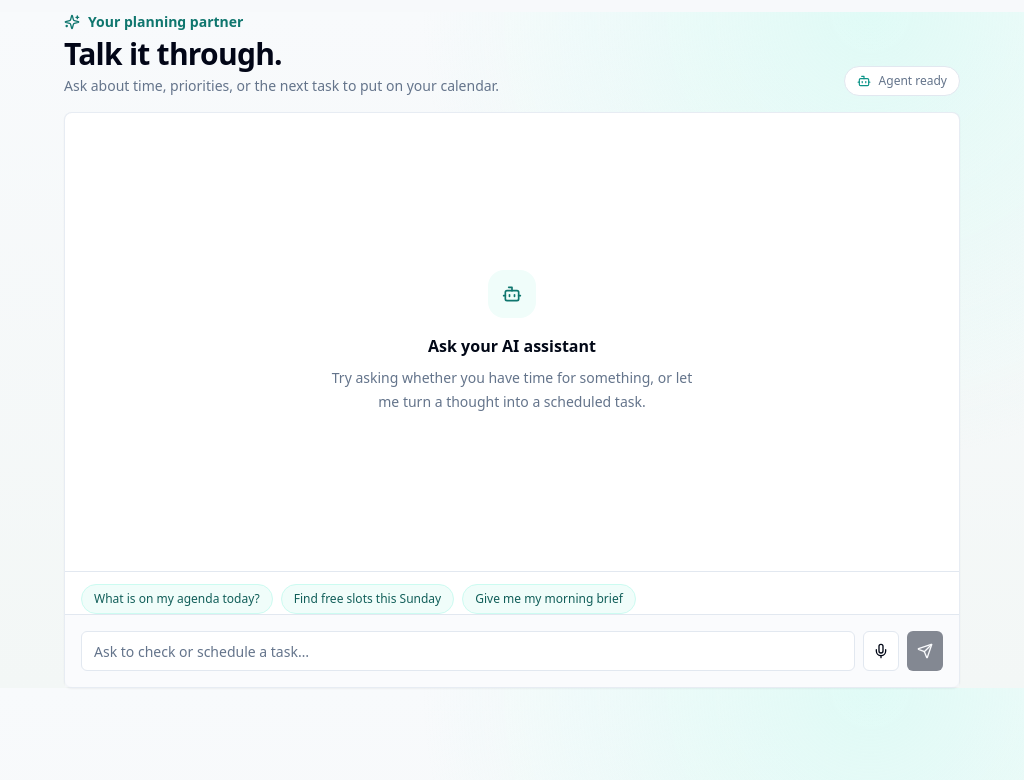
Test: ChatPage › disables the send button while the input is empty
expect the button named "send" is disabled: met, box x1=907 y1=631 x2=943 y2=671
Type "hello" into the field with placeholder "Ask to check or schedule a task…" at (468, 651), box x1=81 y1=631 x2=855 y2=671
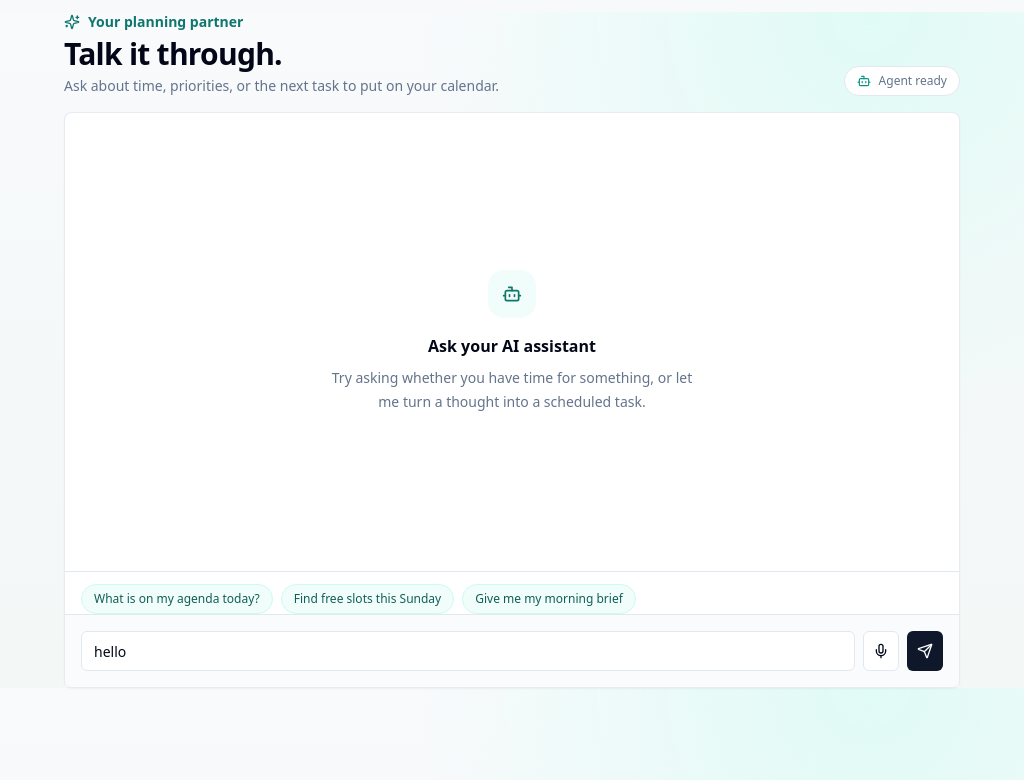
expect the button named "send" is enabled: met, box x1=907 y1=631 x2=943 y2=671
